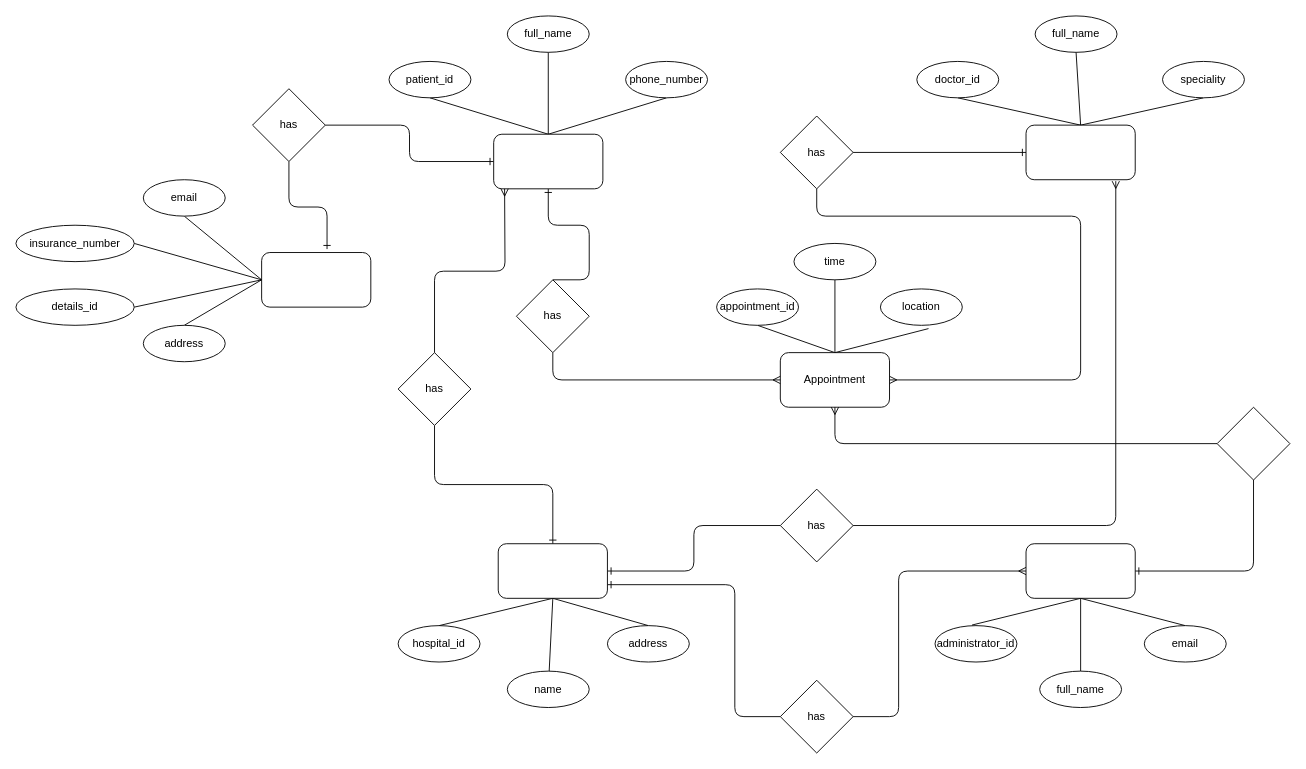
This 1306x769 diagram has some shape labels left out. Each missing label, with the centre of its shape:
"Administrator" goes at point 1080,570.
"Doctor" goes at point 1080,152.
"Hospital" goes at point 552,570.
"makes" goes at point 1253,443.
"Patient" goes at point 548,161.
"Patient_details" goes at point 316,279.
